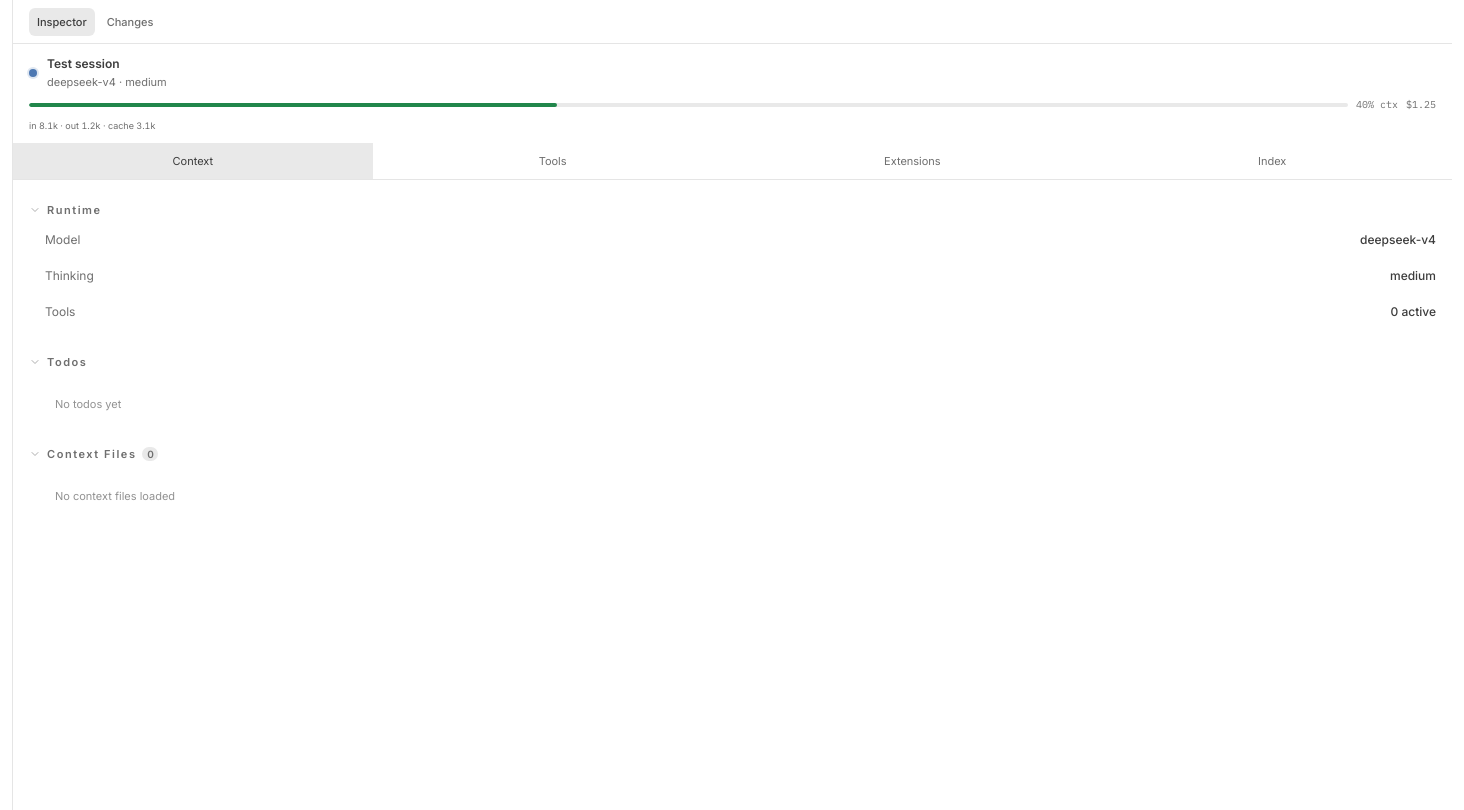
it: ResourceInspector › extensions tab shows MCP empty states when no status is reported
The width and height of the screenshot is (1464, 810).
Click the button "Extensions" at x=912, y=161, box [732,143,1092,179]
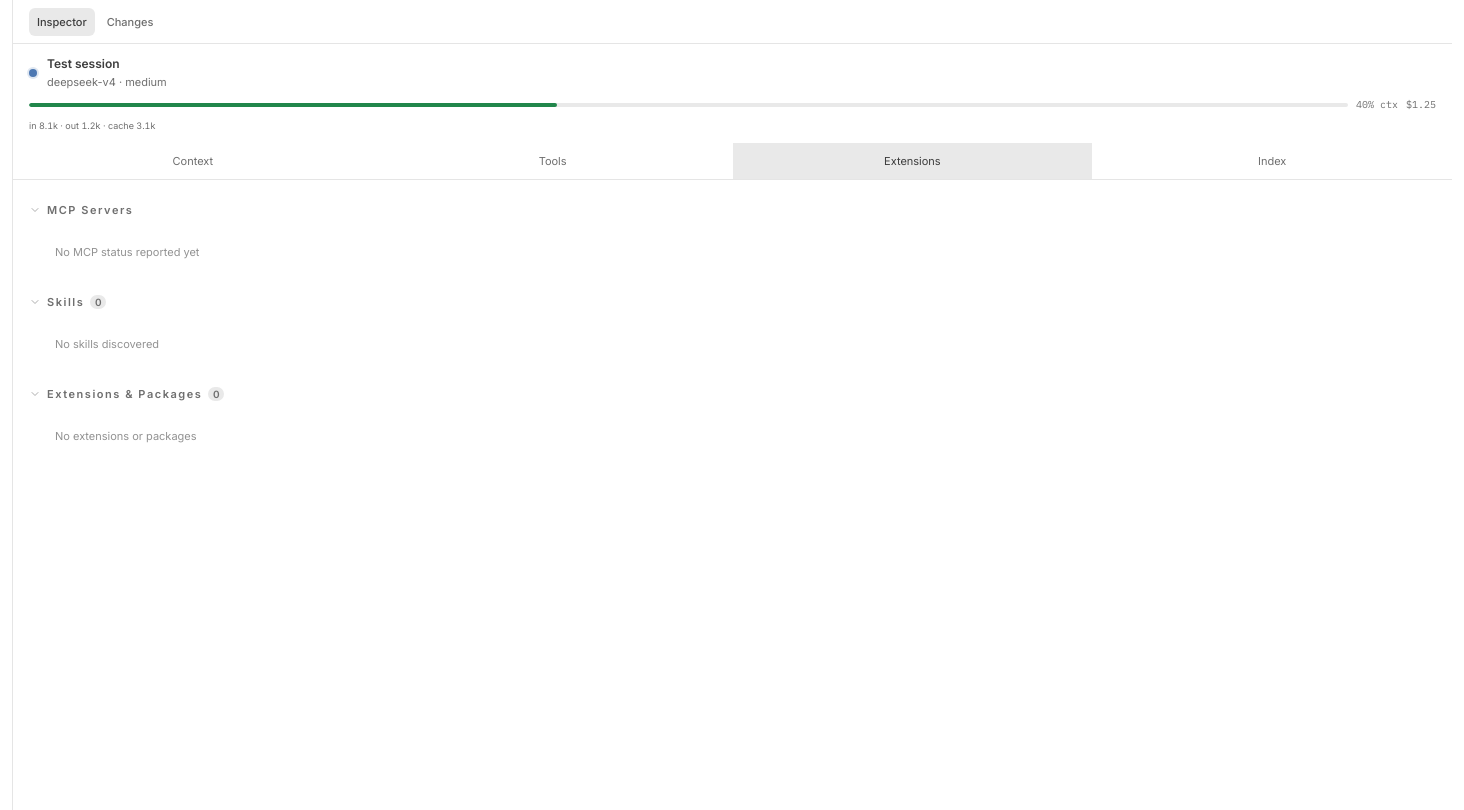
Now the text "MCP Servers" is shown, box [47,202,133,218]
Now the text "No MCP status reported yet" is shown, box [55,245,199,259]
